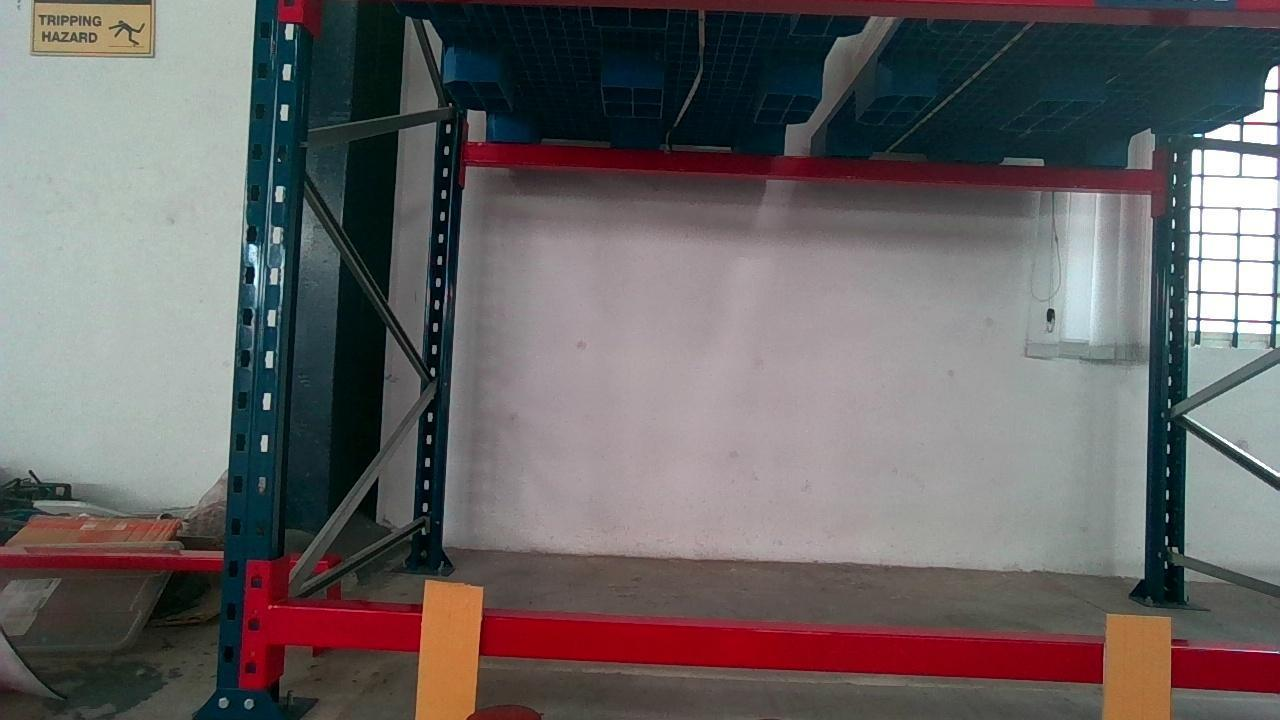h_rack: (268, 604, 1278, 687)
orange_strip: (416, 582, 481, 720), (1103, 615, 1173, 720)
